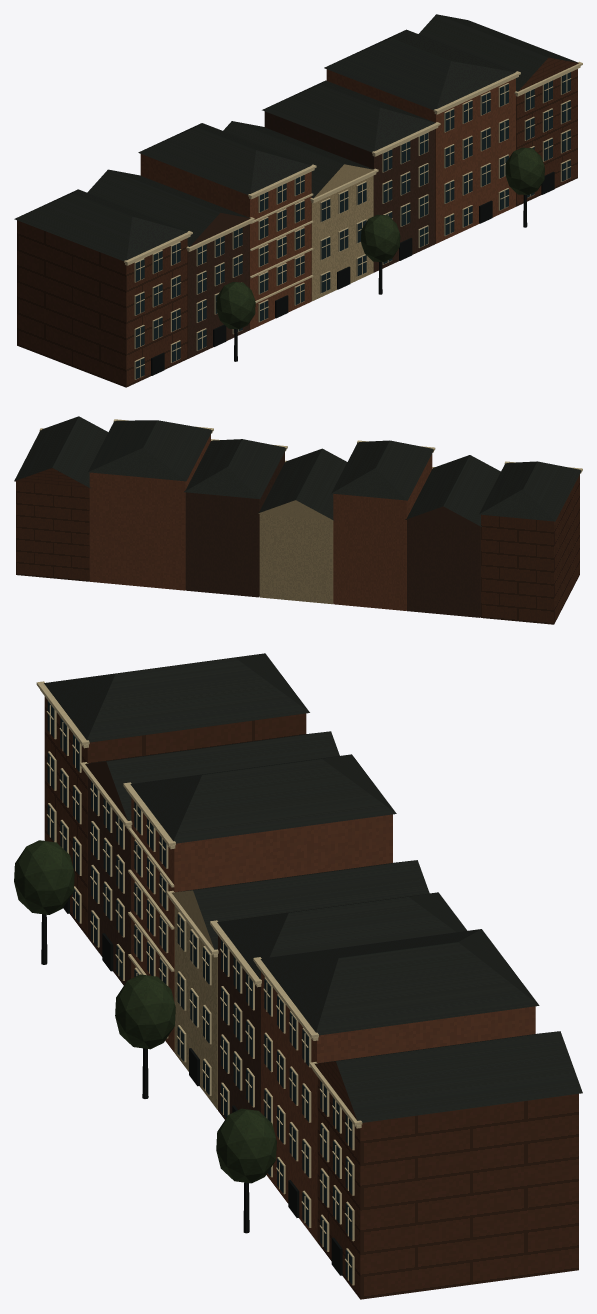
3 renders of one model, top to bottom at view 1: azimuth 30°, elevation 25°; view 2: azimuth 150°, elevation 25°; view 3: azimuth 270°, elevation 25°, orthographic. The views are drawn at different scales.
Parts seen in each view (by area): view 1: wijnhaven-west-3, wijnhaven-west-2, wijnhaven-west-7, wijnhaven-west-5, wijnhaven-west-4, wijnhaven-west-6, wijnhaven-west-8, wijnhaven-west-1, wijnhaven-west-0; view 2: wijnhaven-west-3, wijnhaven-west-7, wijnhaven-west-2, wijnhaven-west-6, wijnhaven-west-8; view 3: wijnhaven-west-3, wijnhaven-west-2, wijnhaven-west-7, wijnhaven-west-4, wijnhaven-west-5, wijnhaven-west-1, wijnhaven-west-6, wijnhaven-west-8, wijnhaven-west-0.
Boxes of the visible parts, x1,y1,x2,y2 form: wijnhaven-west-3: (14,14,577,261); wijnhaven-west-2: (17,57,578,387); wijnhaven-west-7: (140,69,515,329); wijnhaven-west-5: (135,72,570,378); wijnhaven-west-4: (124,61,582,379); wijnhaven-west-6: (187,111,435,358); wijnhaven-west-8: (311,164,374,301); wijnhaven-west-1: (216,147,544,329); wijnhaven-west-0: (151,171,554,375); wijnhaven-west-3: (14,416,581,526); wijnhaven-west-7: (89,434,432,610); wijnhaven-west-2: (15,468,579,624); wijnhaven-west-6: (185,452,480,617); wijnhaven-west-8: (258,500,333,604); wijnhaven-west-3: (44,653,582,1122); wijnhaven-west-2: (44,696,578,1299); wijnhaven-west-7: (131,797,535,1241); wijnhaven-west-4: (36,681,362,1285); wijnhaven-west-5: (47,701,352,1283); wijnhaven-west-1: (14,840,276,1183); wijnhaven-west-6: (85,761,260,1119); wijnhaven-west-8: (172,890,217,1109); wijnhaven-west-0: (41,898,342,1275).
Bounding box in the file's own units: 84.02 × 21 × 44.65.
9 materials, 9 textured.
